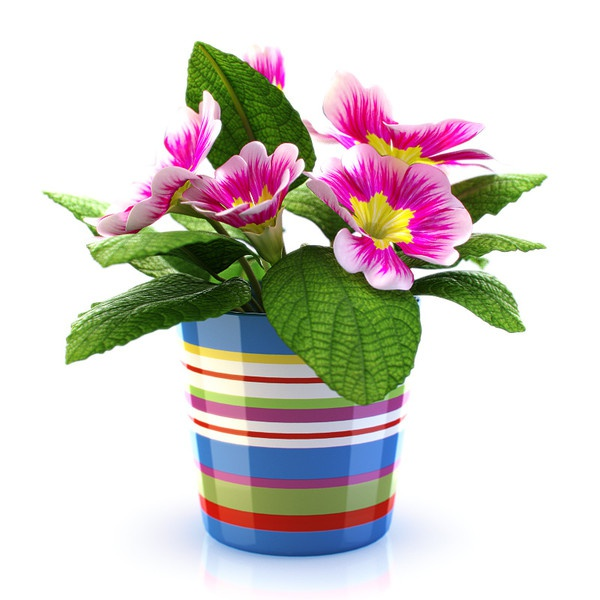flowerpot: (180, 299, 403, 558)
